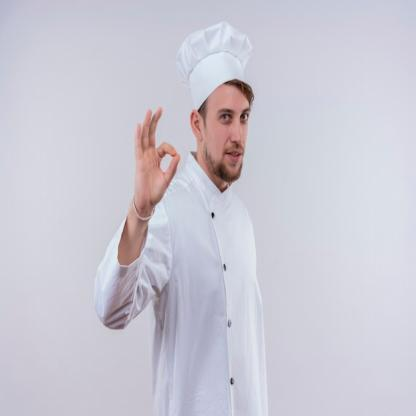ok: (132, 103, 183, 212)
